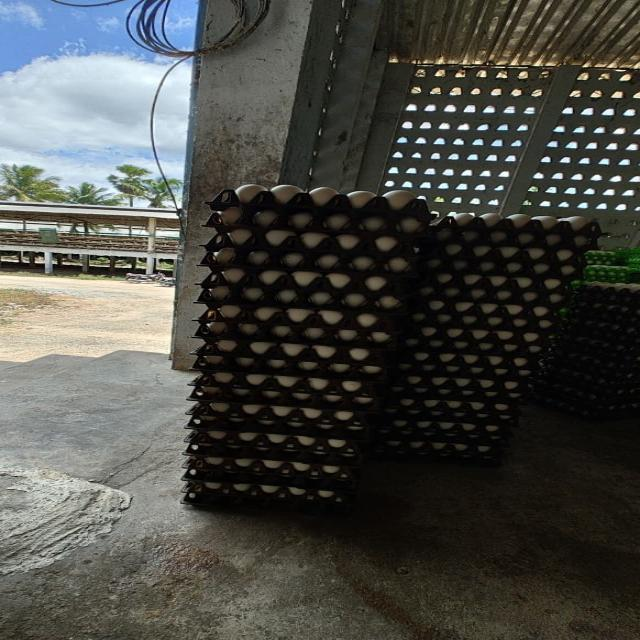egg_tray: (374, 216, 581, 462), (187, 234, 412, 456), (401, 214, 597, 365), (199, 186, 432, 312), (417, 214, 587, 333), (415, 216, 578, 333), (187, 367, 377, 459), (196, 290, 402, 373), (191, 328, 391, 412), (189, 340, 384, 423), (420, 214, 599, 304), (205, 192, 432, 262), (387, 318, 547, 414), (385, 339, 536, 438), (198, 246, 413, 313), (187, 378, 376, 454), (197, 304, 394, 376), (183, 428, 362, 506), (537, 283, 638, 420), (400, 285, 569, 362), (385, 344, 526, 436), (394, 312, 554, 392), (191, 345, 385, 410), (407, 272, 570, 346), (196, 304, 397, 364), (185, 430, 362, 498), (205, 185, 432, 238), (198, 272, 405, 330), (385, 354, 532, 435), (400, 291, 567, 362), (192, 324, 393, 382), (205, 200, 431, 250), (205, 200, 429, 250), (195, 308, 398, 362), (192, 327, 389, 382), (420, 214, 584, 280), (400, 290, 569, 354), (399, 298, 561, 364), (539, 288, 639, 394), (387, 334, 534, 406), (195, 330, 385, 384), (185, 416, 367, 469), (372, 399, 516, 465), (197, 268, 405, 313), (390, 332, 533, 397), (202, 231, 413, 274), (196, 304, 398, 348), (405, 292, 567, 346), (385, 353, 527, 411), (194, 308, 398, 348), (192, 384, 372, 428), (418, 244, 581, 292), (189, 371, 378, 412), (184, 461, 356, 506), (199, 246, 413, 282), (186, 400, 376, 440), (183, 447, 362, 489), (407, 300, 552, 351), (192, 344, 386, 382), (375, 390, 518, 441), (185, 402, 367, 442), (196, 338, 386, 376), (420, 246, 581, 290), (188, 400, 374, 438), (435, 214, 600, 256), (190, 370, 382, 406), (183, 452, 358, 491), (183, 460, 356, 497), (200, 266, 402, 297), (203, 228, 411, 258), (555, 284, 639, 358), (420, 243, 581, 281), (385, 378, 518, 424), (385, 371, 526, 414), (417, 268, 570, 307), (380, 398, 518, 440), (401, 322, 542, 363), (388, 367, 527, 406), (537, 342, 639, 395), (186, 426, 362, 456), (183, 478, 353, 508), (183, 481, 353, 510), (538, 342, 639, 389), (375, 412, 512, 445), (553, 320, 638, 372), (542, 342, 639, 385), (189, 472, 332, 501), (533, 381, 639, 420), (539, 359, 639, 399), (387, 390, 517, 420), (371, 436, 501, 466), (377, 415, 510, 444), (398, 350, 537, 377), (537, 382, 637, 418), (554, 320, 639, 362), (430, 366, 521, 396), (537, 396, 639, 422), (549, 334, 631, 366), (565, 314, 639, 348), (574, 282, 639, 314), (570, 298, 639, 328), (576, 282, 639, 310), (578, 282, 639, 307), (584, 264, 631, 283), (586, 250, 616, 264), (627, 252, 639, 284), (453, 346, 475, 361), (556, 222, 574, 240), (582, 218, 596, 239), (260, 325, 286, 333), (331, 330, 353, 338), (241, 292, 258, 302), (283, 466, 297, 477), (313, 348, 331, 356), (374, 332, 388, 342), (338, 330, 354, 338), (258, 192, 274, 200), (551, 234, 562, 245), (279, 376, 291, 386), (208, 291, 225, 298), (516, 358, 529, 366), (426, 396, 440, 403), (254, 460, 278, 464), (452, 330, 464, 338), (553, 296, 563, 305), (238, 374, 247, 384), (309, 396, 320, 404), (430, 352, 451, 356), (198, 348, 210, 355), (308, 238, 316, 248), (258, 376, 267, 384), (503, 246, 517, 251), (526, 336, 536, 343), (300, 366, 317, 370), (274, 408, 285, 414), (334, 494, 342, 502), (276, 325, 285, 332), (324, 472, 339, 476), (187, 442, 192, 454), (242, 204, 254, 209), (336, 196, 346, 202), (432, 380, 442, 386), (278, 344, 285, 352), (374, 197, 385, 202), (336, 366, 345, 372), (498, 408, 511, 412), (296, 463, 306, 468), (256, 326, 264, 332), (580, 220, 586, 228), (452, 346, 460, 352), (338, 196, 346, 202), (197, 362, 205, 368), (247, 362, 258, 366), (484, 408, 495, 412), (266, 326, 274, 331), (350, 470, 354, 480), (525, 365, 533, 370), (477, 331, 489, 334), (321, 298, 327, 304), (298, 345, 307, 349), (243, 410, 249, 416), (517, 358, 529, 361), (417, 351, 426, 355), (269, 365, 276, 370), (578, 242, 586, 246), (301, 468, 305, 476), (464, 426, 470, 431), (439, 279, 445, 284), (250, 343, 260, 346), (198, 360, 203, 366), (554, 234, 561, 238), (412, 316, 419, 320), (223, 192, 230, 196), (468, 415, 472, 422), (376, 196, 383, 200), (280, 492, 285, 497), (250, 243, 255, 248), (214, 391, 219, 396), (268, 366, 272, 372), (313, 402, 321, 405), (263, 270, 271, 273), (225, 408, 231, 412), (453, 400, 461, 403), (196, 439, 200, 445), (294, 491, 302, 494), (233, 352, 239, 356), (497, 316, 503, 320), (238, 230, 249, 232), (327, 462, 334, 465), (400, 363, 407, 366), (360, 245, 367, 248), (283, 300, 290, 303), (238, 234, 245, 237), (474, 408, 481, 411), (487, 409, 494, 412), (413, 318, 418, 322), (536, 346, 541, 350), (500, 218, 509, 220), (301, 194, 307, 197), (245, 415, 249, 419), (309, 328, 317, 330), (242, 324, 246, 328), (283, 276, 287, 280), (317, 388, 321, 392), (228, 470, 232, 474), (505, 334, 509, 338), (589, 231, 594, 234), (208, 405, 211, 410), (445, 425, 450, 428), (593, 351, 596, 356), (378, 197, 383, 200), (315, 474, 322, 476), (478, 331, 485, 333), (229, 468, 232, 472), (605, 347, 608, 351), (477, 253, 481, 256), (213, 345, 217, 348), (223, 376, 227, 379), (219, 371, 223, 374), (192, 396, 198, 398), (367, 194, 373, 196), (485, 373, 489, 376), (336, 354, 340, 357), (320, 494, 325, 496), (307, 251, 312, 253), (246, 386, 251, 388), (301, 194, 306, 196), (542, 308, 547, 310), (318, 336, 321, 339), (465, 281, 468, 284), (428, 416, 432, 418), (272, 244, 276, 246), (509, 396, 516, 397), (589, 226, 591, 229), (376, 332, 379, 334), (243, 470, 246, 472), (330, 318, 333, 320), (308, 402, 311, 404), (328, 347, 331, 349), (327, 466, 330, 468), (216, 246, 219, 248), (353, 304, 356, 306), (278, 415, 280, 418), (274, 188, 277, 190), (519, 306, 522, 308), (327, 347, 332, 348), (566, 229, 568, 231), (300, 398, 304, 399), (278, 331, 282, 332), (256, 478, 258, 480), (260, 462, 262, 464), (620, 318, 622, 320), (190, 444, 192, 446), (238, 326, 240, 328), (275, 364, 276, 367), (383, 243, 386, 244), (542, 236, 543, 239), (371, 371, 374, 372), (334, 358, 335, 361), (278, 416, 280, 417), (373, 317, 374, 319), (418, 302, 419, 304), (361, 350, 363, 351), (351, 487, 353, 488), (208, 317, 209, 319), (236, 238, 237, 240), (333, 267, 334, 269), (564, 242, 565, 244), (496, 349, 497, 351), (287, 495, 288, 497), (324, 367, 326, 368), (473, 282, 474, 284), (275, 366, 276, 368), (373, 356, 374, 358), (265, 465, 266, 466), (468, 332, 469, 333), (342, 316, 343, 317), (554, 243, 556, 243), (542, 230, 543, 230), (488, 215, 493, 215), (340, 501, 342, 501), (294, 492, 294, 494), (484, 338, 485, 338), (374, 336, 377, 336), (225, 248, 229, 248), (450, 432, 451, 432), (526, 348, 528, 348), (481, 343, 482, 343), (265, 472, 266, 472), (208, 352, 211, 352), (412, 358, 412, 359), (238, 351, 238, 353), (211, 458, 215, 458), (189, 479, 190, 479), (208, 247, 209, 247), (316, 236, 316, 238), (389, 307, 392, 307), (358, 354, 358, 358), (273, 352, 274, 352), (270, 242, 270, 244), (333, 354, 334, 354), (361, 350, 364, 350), (580, 249, 580, 250), (418, 356, 421, 356), (231, 232, 233, 232), (206, 246, 207, 246), (302, 485, 304, 485), (262, 483, 264, 483), (240, 390, 241, 390), (502, 234, 503, 234), (441, 223, 443, 223), (218, 205, 220, 205), (388, 405, 389, 405), (413, 438, 417, 438), (348, 330, 349, 330), (216, 363, 217, 363), (307, 354, 309, 354), (636, 362, 636, 366), (580, 359, 580, 359)
